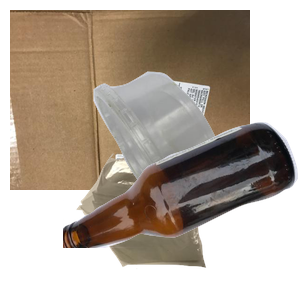cardboard: (10, 10, 250, 190)
glass: (63, 120, 300, 300)
plastic: (91, 69, 300, 249)
trash: (74, 148, 273, 300)
